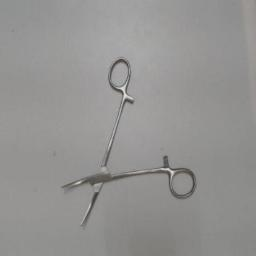Crile Artery Forceps: (57, 52, 199, 232)
